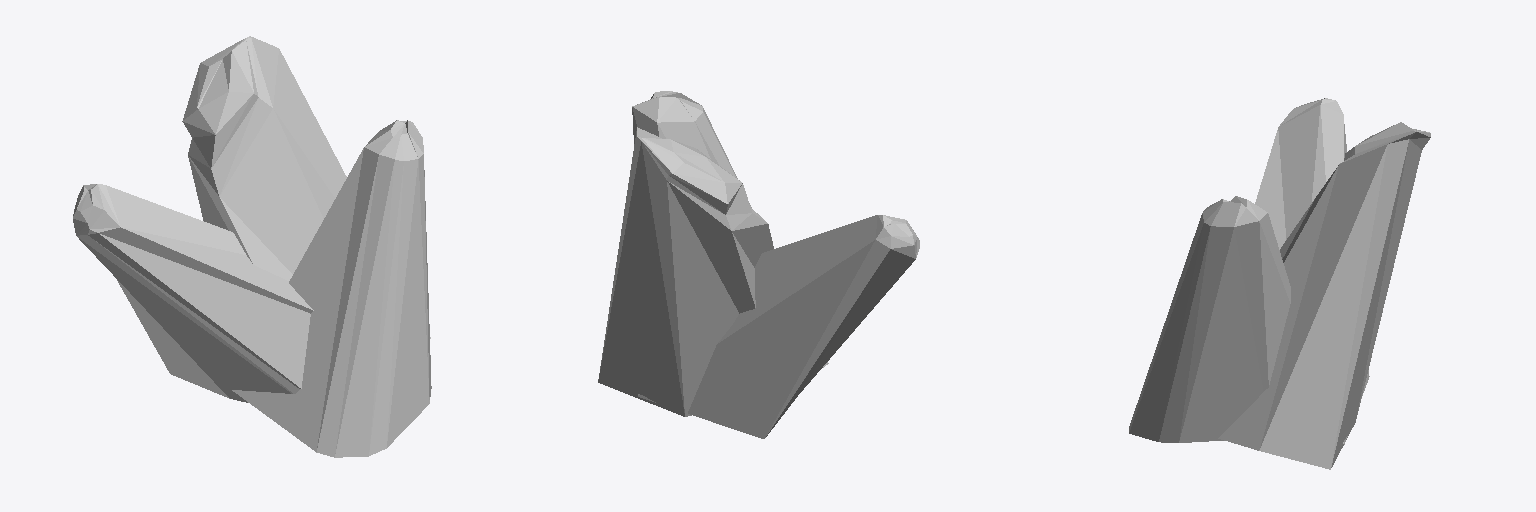
The model's file is crystal2.obj.
3 renders of one model, left to right at view 1: azimuth 30°, elevation 25°; view 2: azimuth 150°, elevation 25°; view 3: azimuth 270°, elevation 25°, orthographic.
Visible parts, largest first — view 1: Cone.004; view 2: Cone.004; view 3: Cone.004.
Part boxes in pixels (x1,y1,x2,y2): Cone.004: (73, 36, 431, 457); Cone.004: (598, 91, 919, 438); Cone.004: (1129, 98, 1430, 469).
Bounding box in the file's own units: 3.05 × 2.74 × 2.43.